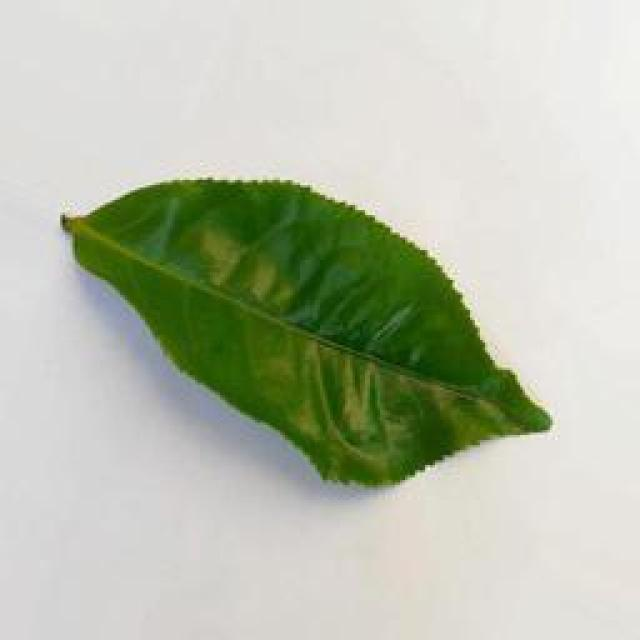Healthy: (49, 162, 562, 497)
